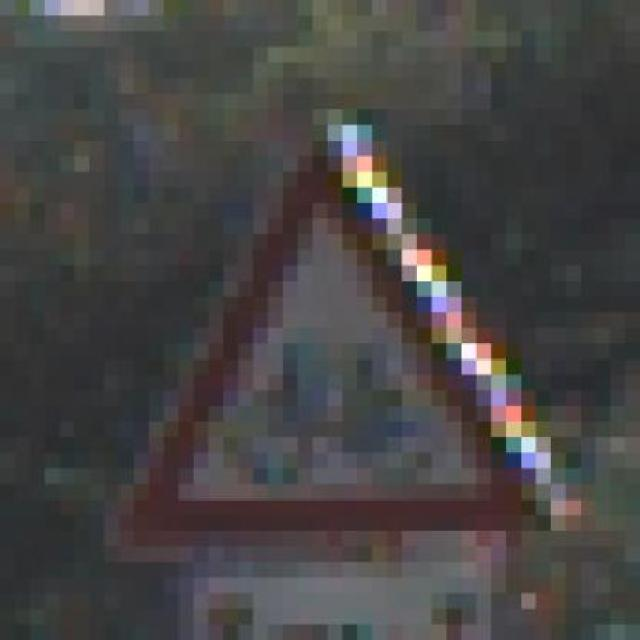CYCLE ROUTE AHEAD WARNING: (74, 108, 566, 578)
